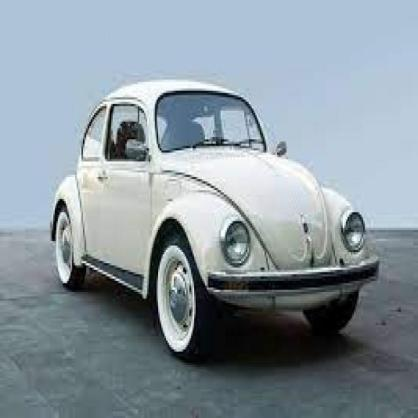car: (52, 80, 379, 357)
